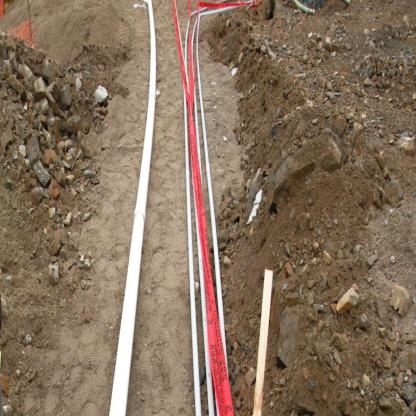PVC: (170, 0, 260, 415), (105, 0, 159, 415)
